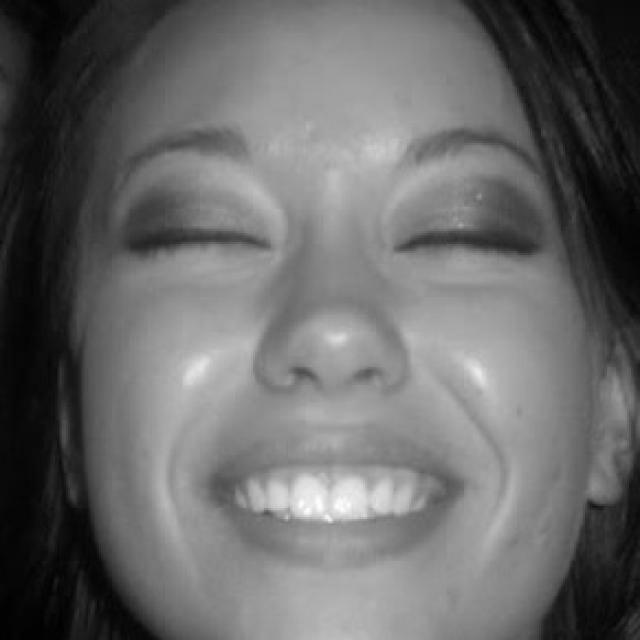real: (51, 0, 614, 631), (107, 156, 559, 294)
